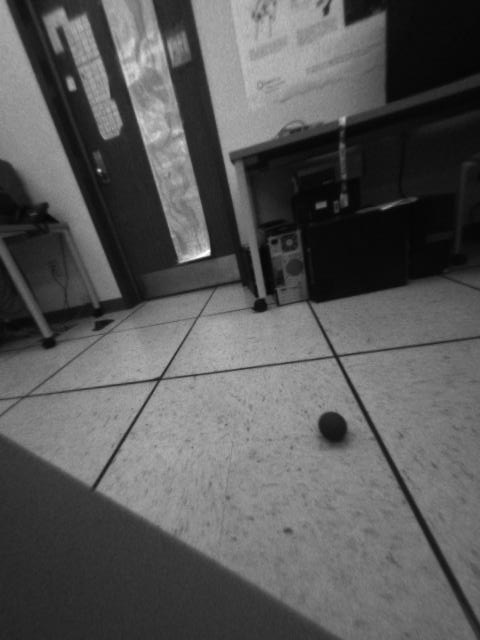dogtoy: (314, 403, 353, 446)
